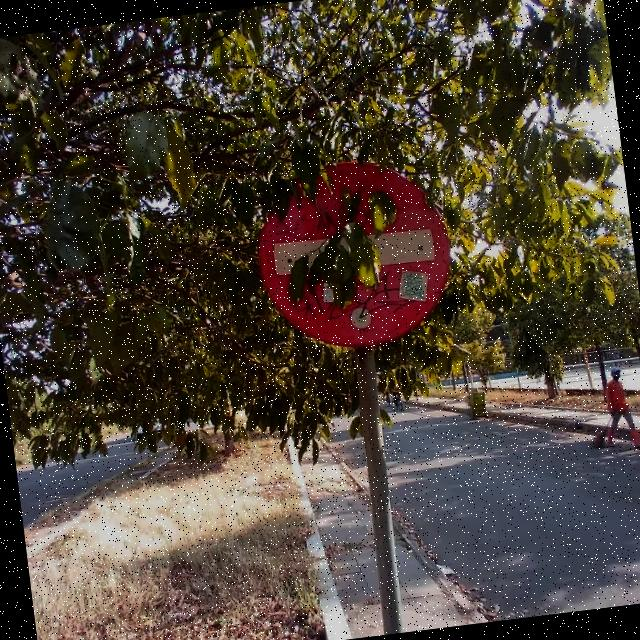Zakaz wjazdu: (250, 151, 462, 358)
